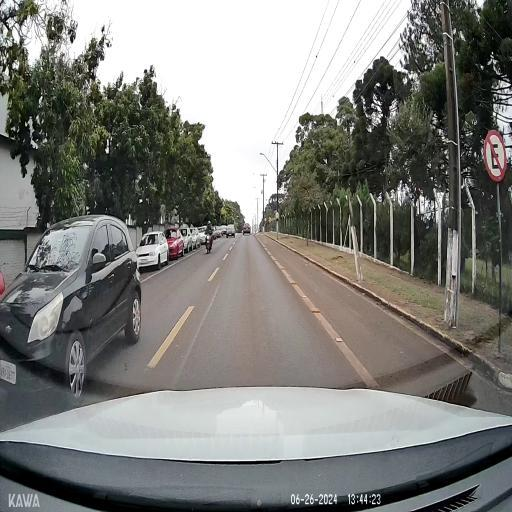R-6a: (484, 127, 506, 182)
